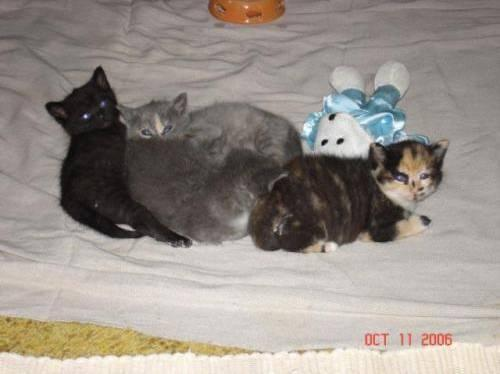cat: (45, 67, 450, 255)
